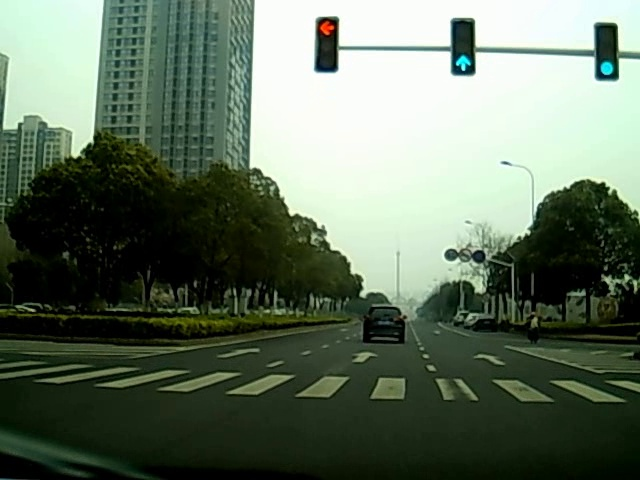Traffic_Light_go: (452, 33, 473, 75), (597, 42, 617, 80)
Traffic_Light_stop: (314, 21, 333, 68)
